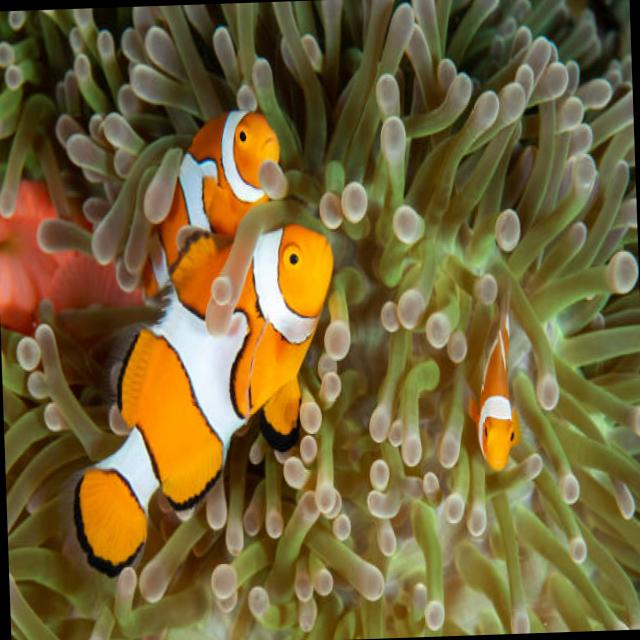ClownFish: (65, 224, 348, 575), (131, 105, 286, 297), (466, 285, 524, 478)
